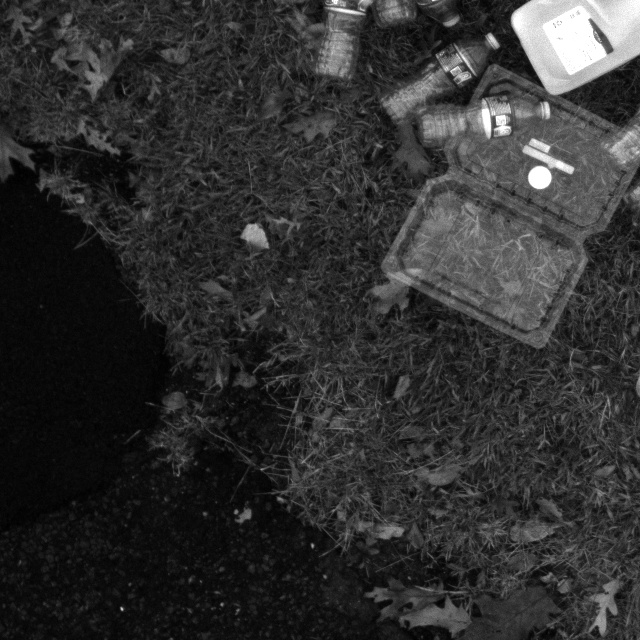bottle: (374, 25, 510, 133), (410, 92, 560, 150), (308, 0, 385, 93)
can: (508, 0, 640, 104)
container: (374, 63, 640, 351)
